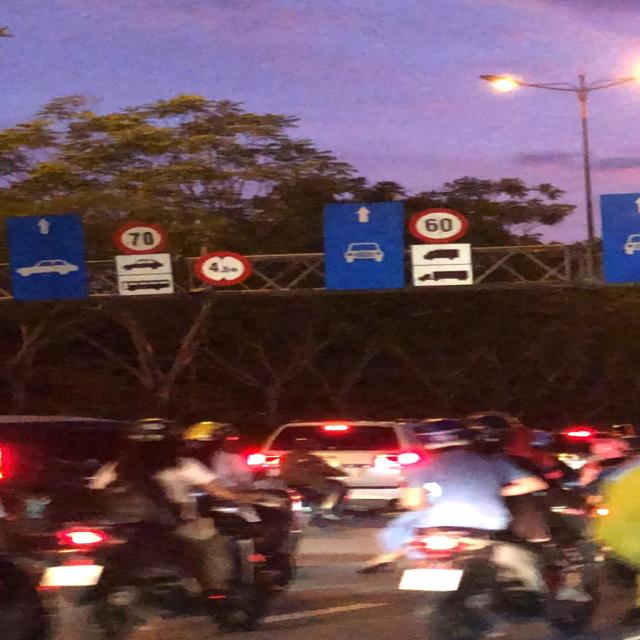Bien bao han che chieu cao: (194, 248, 250, 287)
Bien bao toc do toi da cho phep: (400, 205, 473, 246), (106, 220, 170, 258)
